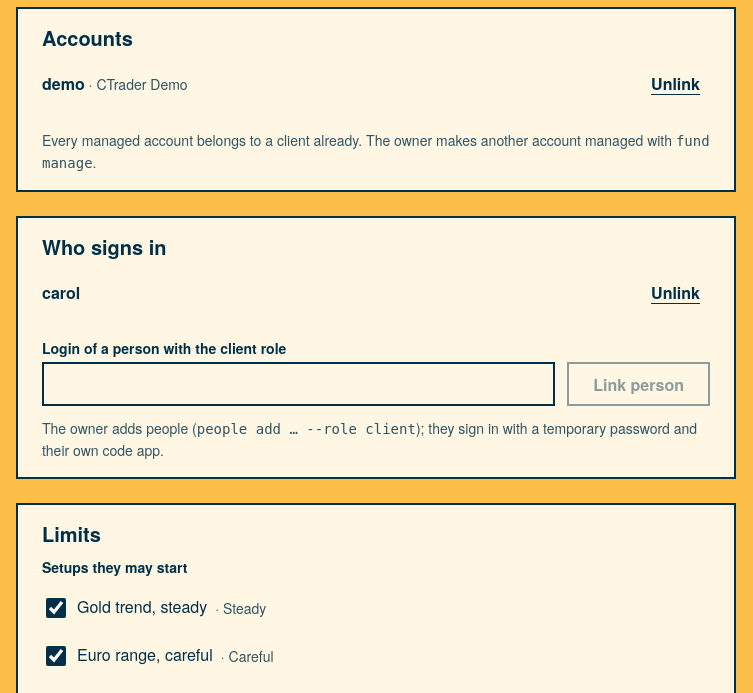
Test case: A client’s page › shows the bot’s reason when a person cannot be linked
(page scrolled)
Type "sam" into the field labelled "Login of a person with the client role" at (299, 384), box [42,362,555,406]
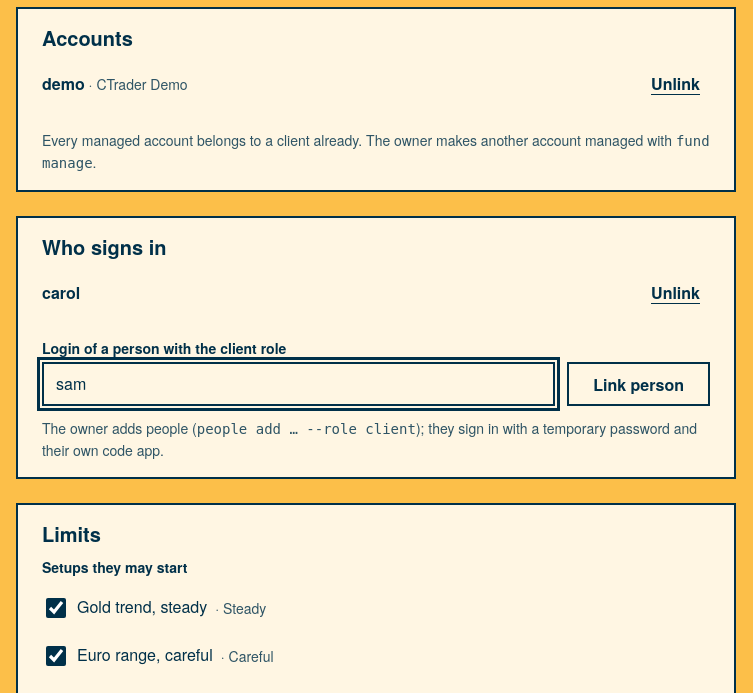
Click the button "Link person" at (639, 384), box [567,362,710,406]
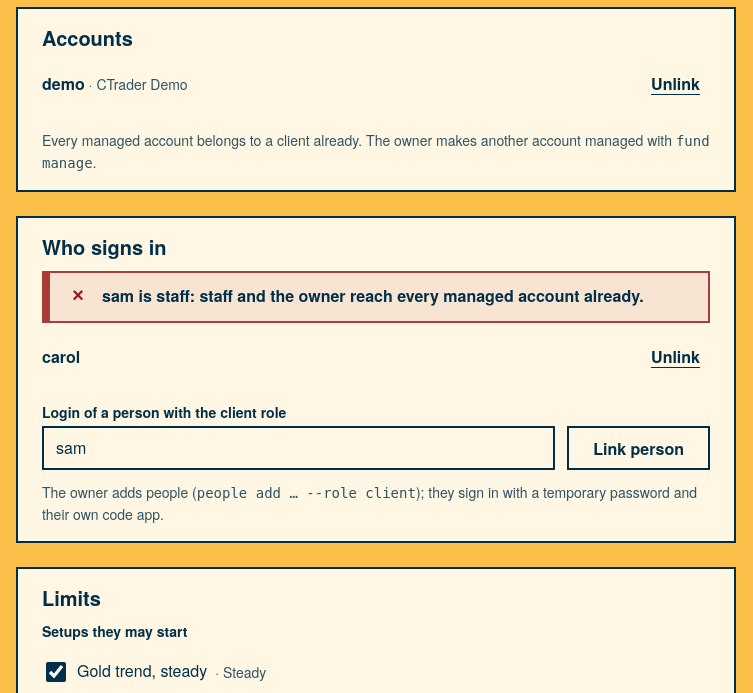
Result: the text "sam is staff: staff and the owner reach every managed account already." is shown at [102,285,692,307]
